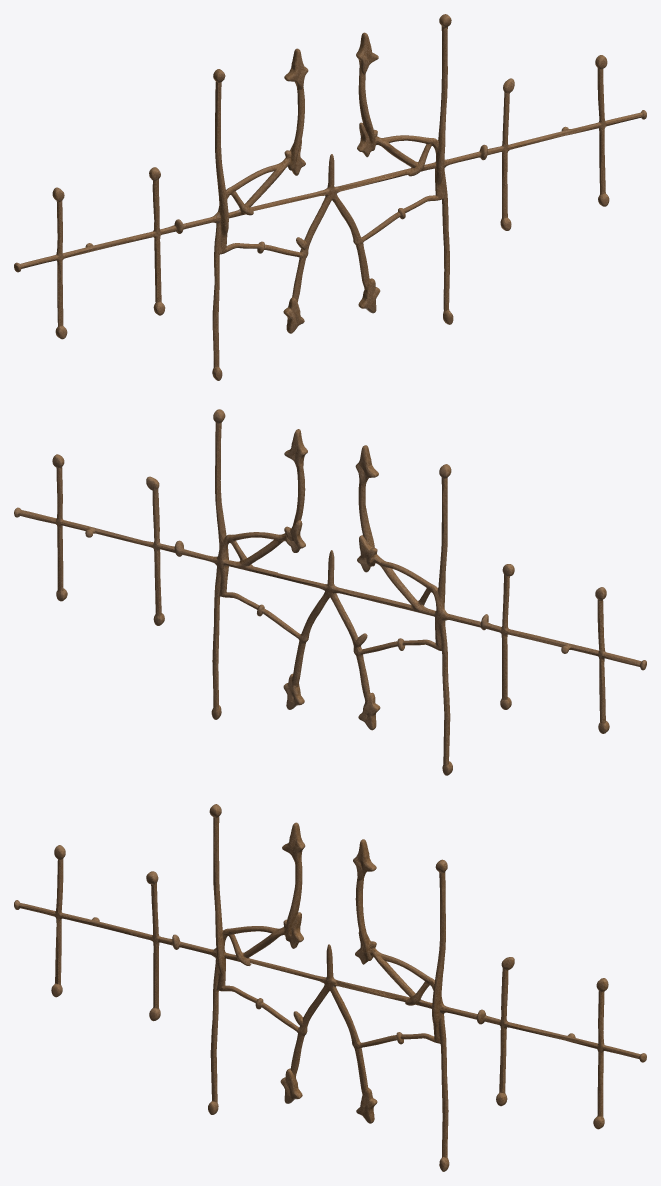
The model's file is rete_stelle.glb.
3 views of the same model, one above another, from view 1: azimuth 30°, elevation 25°; view 2: azimuth 150°, elevation 25°; view 3: azimuth 330°, elevation 25° (orthographic).
Size of the model in its own units: 1.9 by 0.8963 by 0.0508.
Materials: 1 (1 with a texture image).
